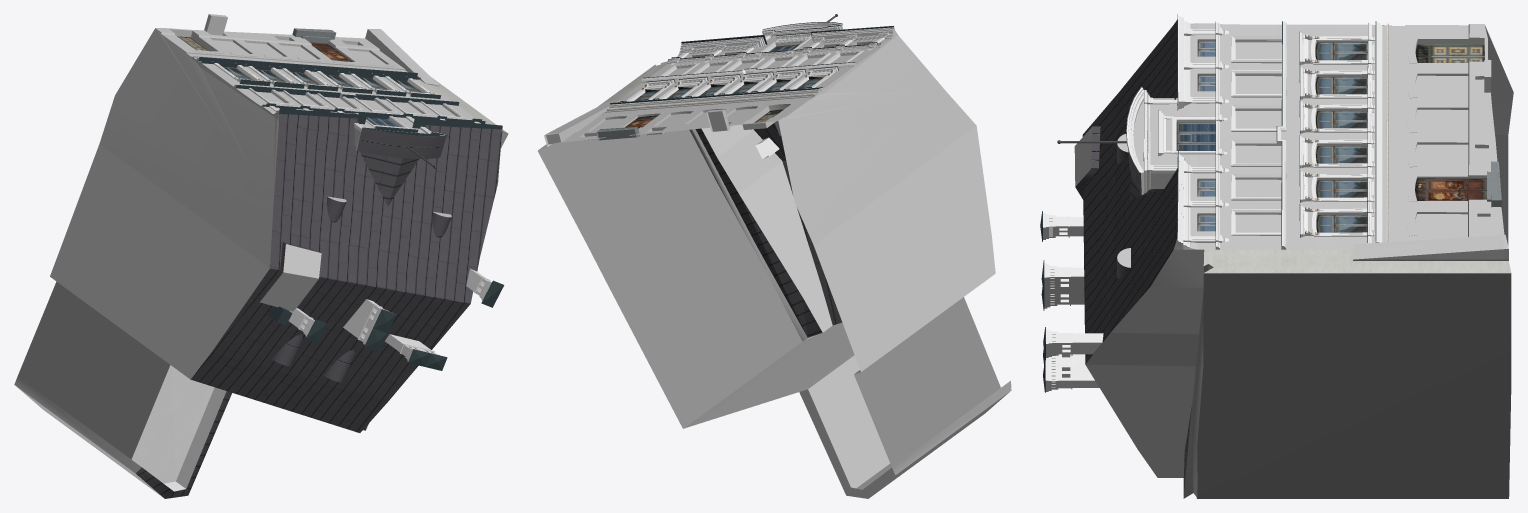
Rendered from Vanaturu_kael_10.obj.
3 views of the same model, side by side, from view 1: azimuth 30°, elevation 25°; view 2: azimuth 150°, elevation 25°; view 3: azimuth 270°, elevation 25° (orthographic). The views are drawn at different scales.
Visible parts, largest first — view 1: Vanaturu_kael_10; view 2: Vanaturu_kael_10; view 3: Vanaturu_kael_10.
Part boxes in pixels (<box>): Vanaturu_kael_10: <box>14,14,508,498</box>; Vanaturu_kael_10: <box>538,14,1011,498</box>; Vanaturu_kael_10: <box>1040,14,1513,498</box>.
Bounding box in the file's own units: 23.56 × 22.63 × 20.76.
